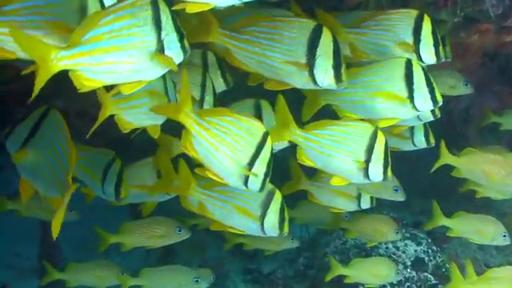Fish: (9, 0, 189, 99), (152, 69, 272, 191), (180, 9, 346, 90), (270, 95, 391, 185), (302, 58, 442, 127), (4, 106, 75, 239), (177, 160, 288, 236), (335, 9, 450, 64), (74, 144, 174, 204), (88, 72, 176, 138), (282, 160, 375, 211), (0, 0, 79, 59), (432, 141, 511, 189), (424, 201, 510, 245), (115, 157, 176, 216), (95, 216, 191, 251), (180, 49, 233, 109), (74, 144, 127, 201), (325, 256, 402, 287), (41, 260, 123, 287), (120, 265, 215, 287), (340, 213, 401, 246), (446, 260, 511, 287), (224, 233, 299, 255), (340, 176, 406, 200), (289, 200, 343, 229), (228, 99, 275, 130), (382, 124, 435, 151), (0, 197, 55, 221), (428, 68, 474, 95), (172, 0, 253, 12), (460, 180, 511, 199), (394, 108, 440, 127), (156, 133, 184, 159), (481, 110, 511, 130), (180, 216, 214, 229)
